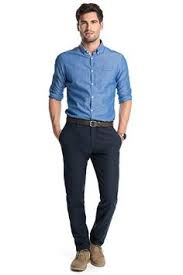person: (42, 2, 135, 273)
